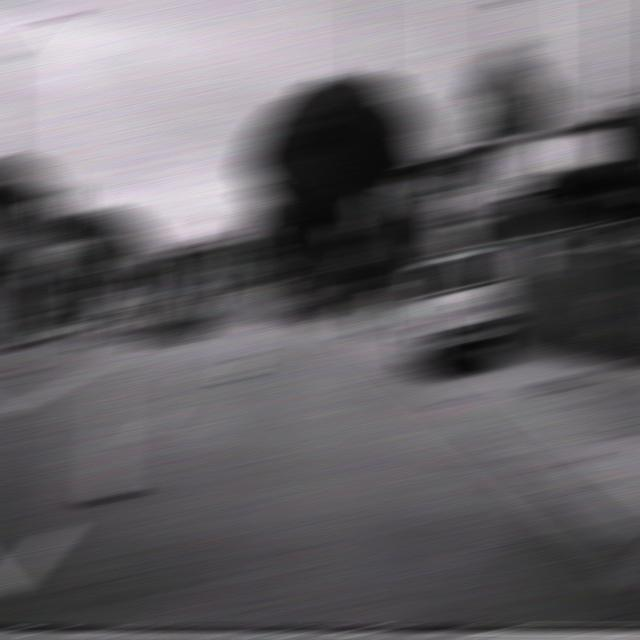pedestrianCrossing: (327, 217, 358, 239)
